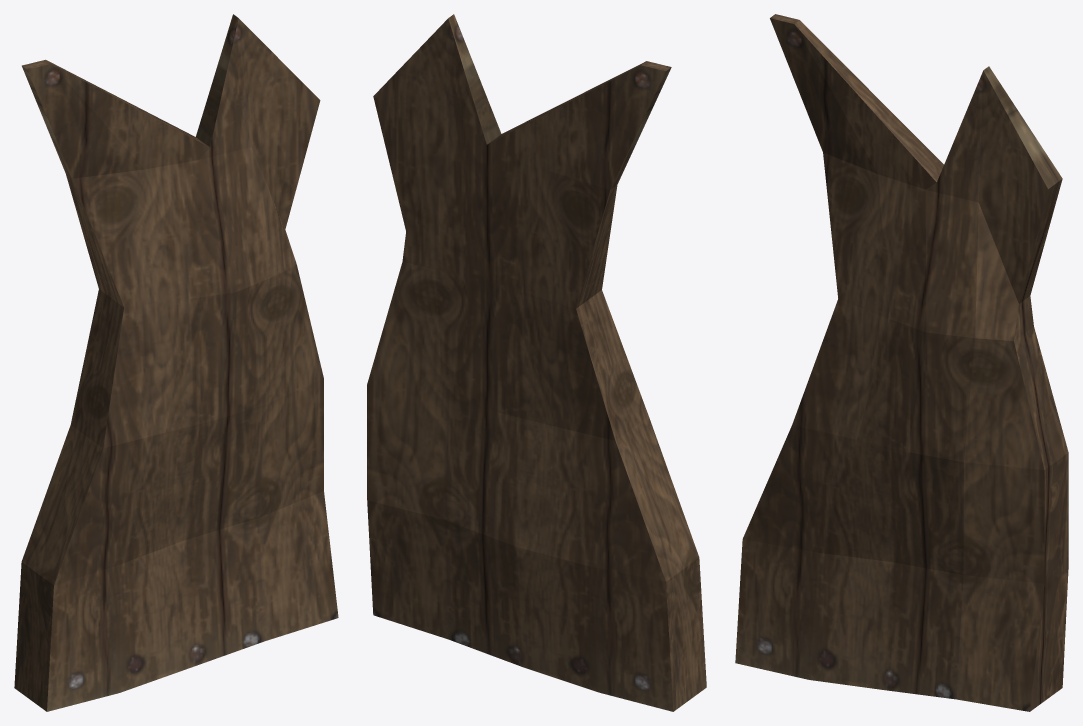
Rendered from WoodBroken.fbx.
The picture shows the model from 3 angles, left to right: view 1: azimuth 30°, elevation 25°; view 2: azimuth 150°, elevation 25°; view 3: azimuth 330°, elevation 25°; orthographic projection. The views are drawn at different scales.
Parts seen in each view (by area): view 1: Cube; view 2: Cube; view 3: Cube.
Boxes of the visible parts, bbox=[...] form: Cube: bbox=[14, 14, 338, 711]; Cube: bbox=[367, 14, 706, 711]; Cube: bbox=[735, 14, 1068, 711].
Bounding box in the file's own units: 39.33 × 80 × 9.02.
Materials: 1 (1 with a texture image).
